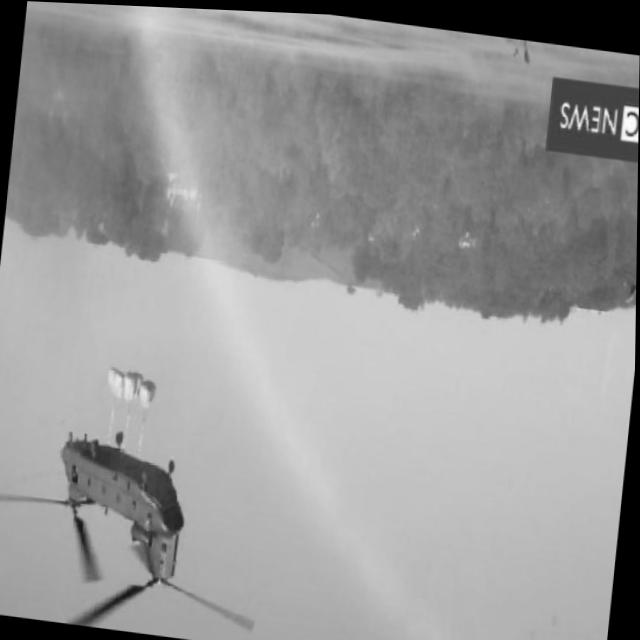helikopter: (0, 399, 274, 627)
